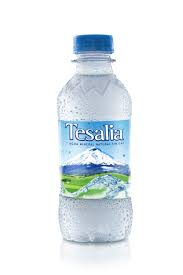Botella: (58, 35, 132, 242)
